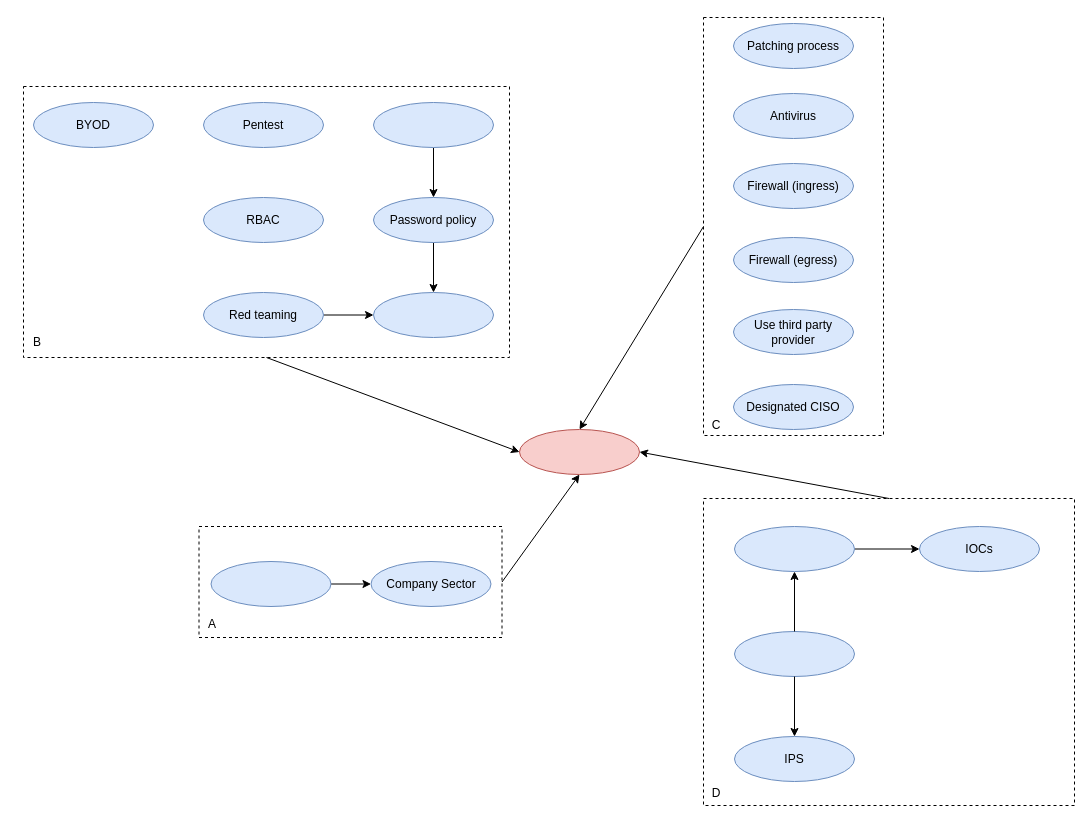
Some shapes in this 1092 by 823 pixel diagram are drawn without their labels. The centre of each missing label's shape, as x and y in pixels:
"2FA" goes at [433,125].
"Company Size" goes at [270,583].
"IDS" goes at [794,653].
"Loss Probability" goes at [579,451].
"Social engineering training" goes at [433,315].
"Threat Intelligence" goes at [794,549].
